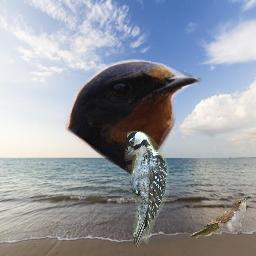Cuckoo: (189, 196, 251, 238)
Swallow: (65, 58, 203, 178)
Woodpecker: (125, 131, 169, 247)
